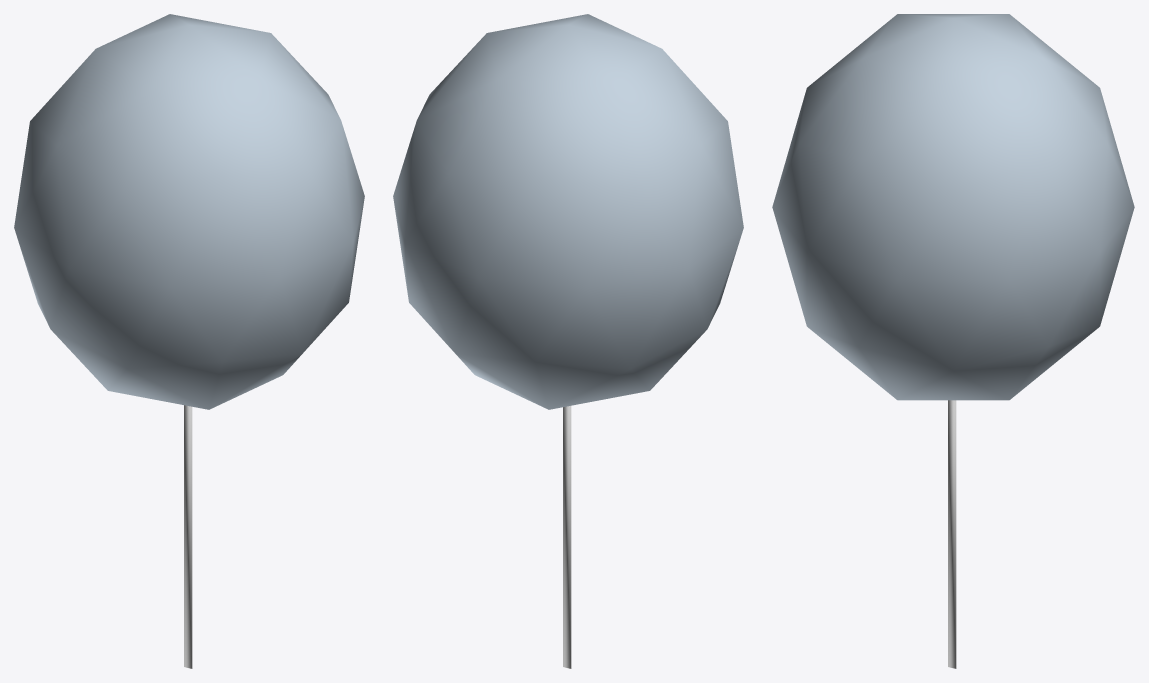
Rendered from cloud_in_a_balloon.glb.
3 renders of one model, left to right at view 1: azimuth 30°, elevation 25°; view 2: azimuth 150°, elevation 25°; view 3: azimuth 270°, elevation 25°, orthographic.
Visible parts, largest first — view 1: cloud_in_a_balloon_v0; view 2: cloud_in_a_balloon_v0; view 3: cloud_in_a_balloon_v0.
Boxes of the visible parts, bbox=[...] form: cloud_in_a_balloon_v0: bbox=[14, 14, 364, 668]; cloud_in_a_balloon_v0: bbox=[393, 14, 743, 668]; cloud_in_a_balloon_v0: bbox=[772, 14, 1134, 668].
Bounding box in the file's own units: 0.1902 × 0.395 × 0.2.
